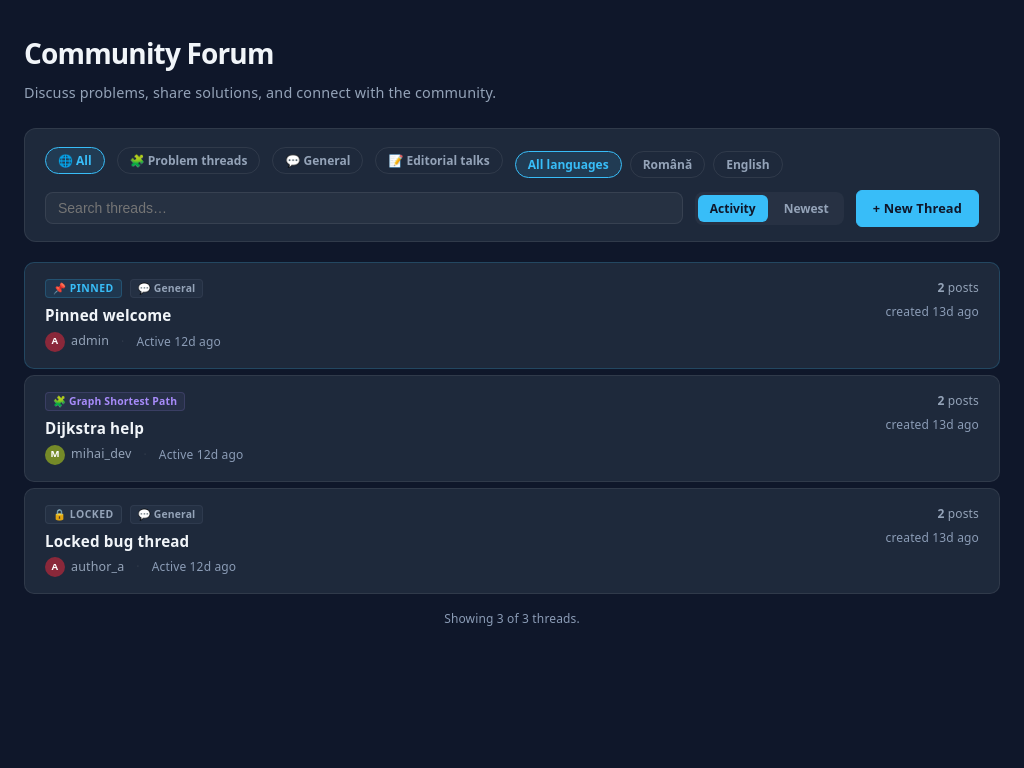
Test: ForumPage (live threads) › filters problem-linked vs general threads
Expected: the heading "Dijkstra help" is shown, left=45, top=418, right=144, bottom=438
Click the button "🧩 Problem threads": {"x": 189, "y": 160} left=117, top=147, right=260, bottom=174
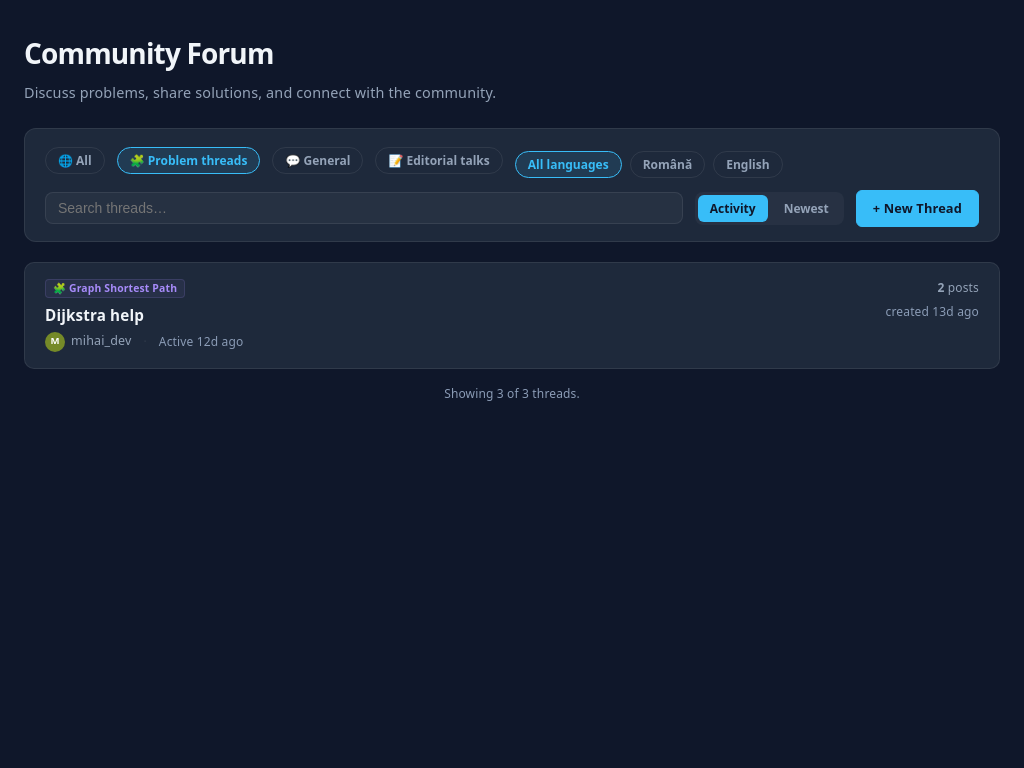
Expected: the heading "Dijkstra help" is shown, left=45, top=305, right=144, bottom=325
Expected: the link "Pinned welcome" is gone
Click the button "💬 General": {"x": 318, "y": 160} left=272, top=147, right=363, bottom=174
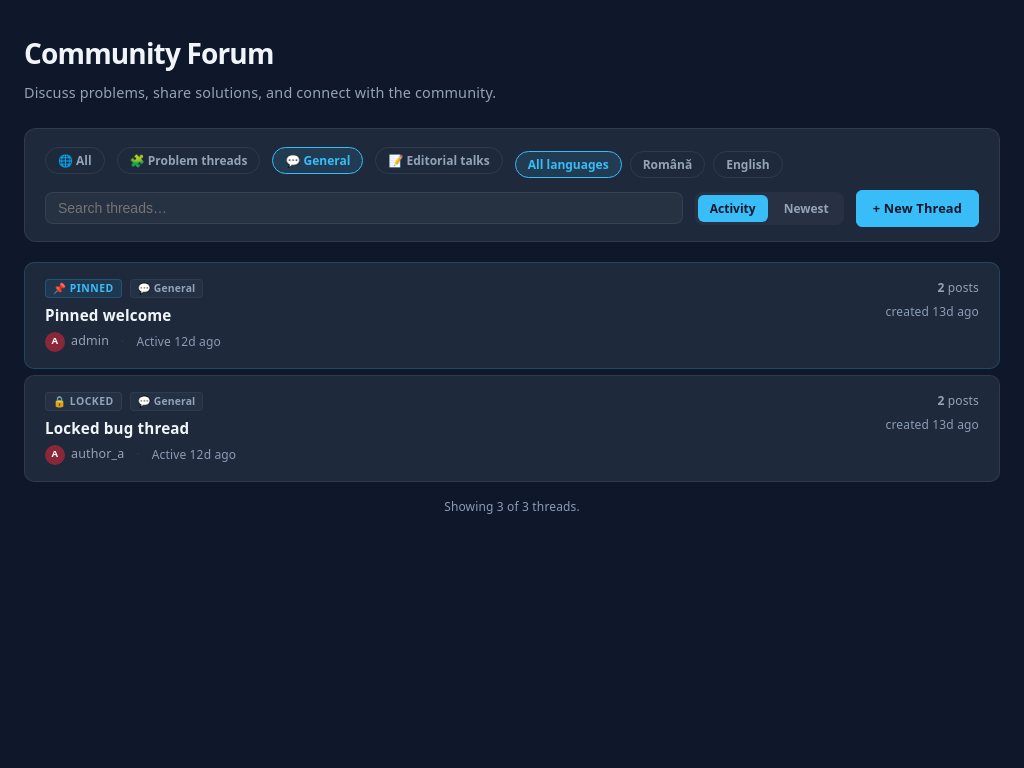
Expected: the heading "Pinned welcome" is shown, left=45, top=305, right=172, bottom=325
Expected: the link "Dijkstra help" is gone
